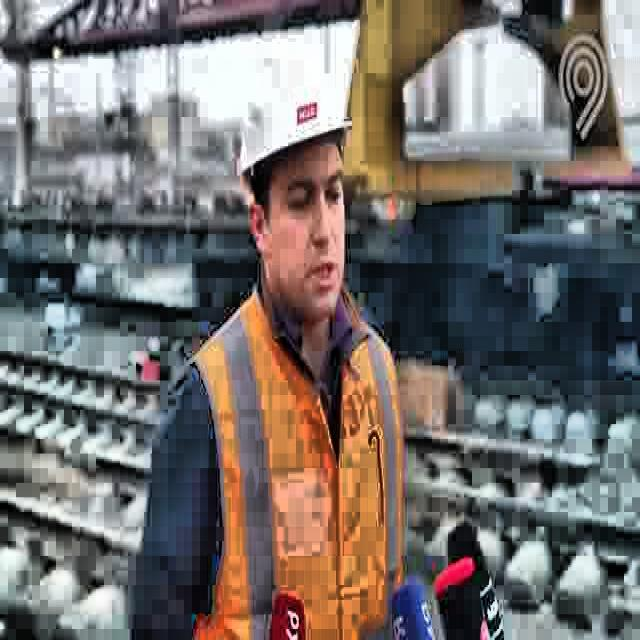safety_helmet: (235, 46, 352, 184)
safety_jacket: (176, 281, 407, 640)
